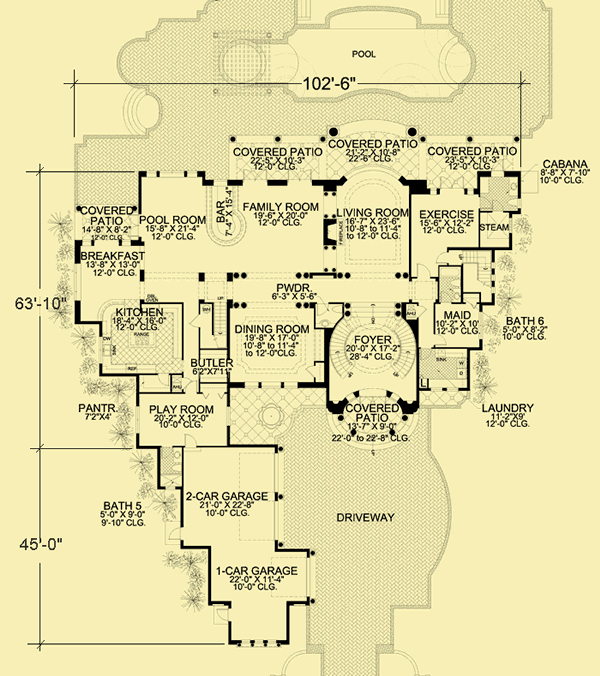door: (411, 261, 435, 278), (166, 525, 183, 543), (156, 373, 172, 388), (435, 248, 450, 263), (179, 432, 195, 445), (189, 310, 200, 328)
stairs: (329, 313, 369, 381), (384, 314, 418, 376), (457, 250, 492, 285)
windows: (144, 168, 196, 179), (242, 380, 298, 389), (238, 639, 281, 650)
